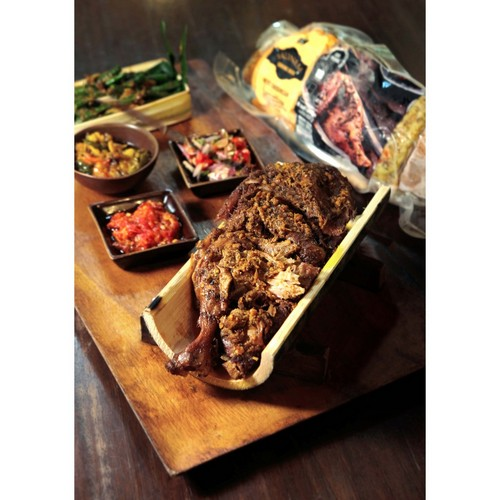bebek timbungan: (184, 159, 332, 385)
